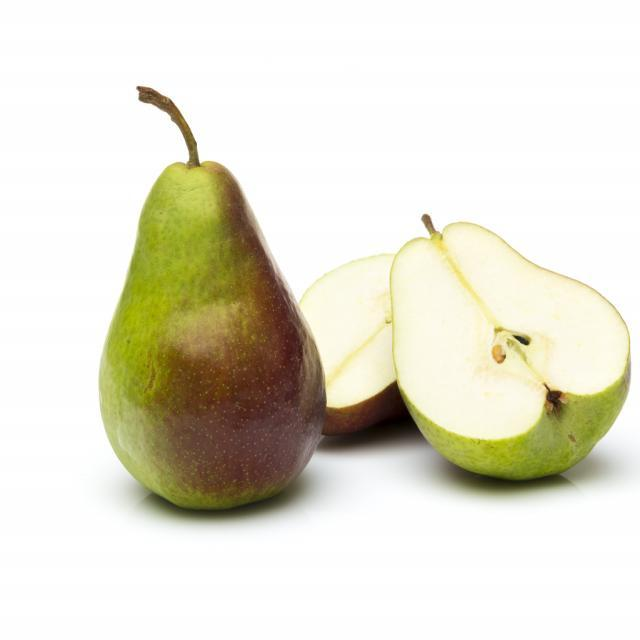Pear: (99, 158, 327, 512), (390, 221, 636, 480), (296, 252, 415, 445)
